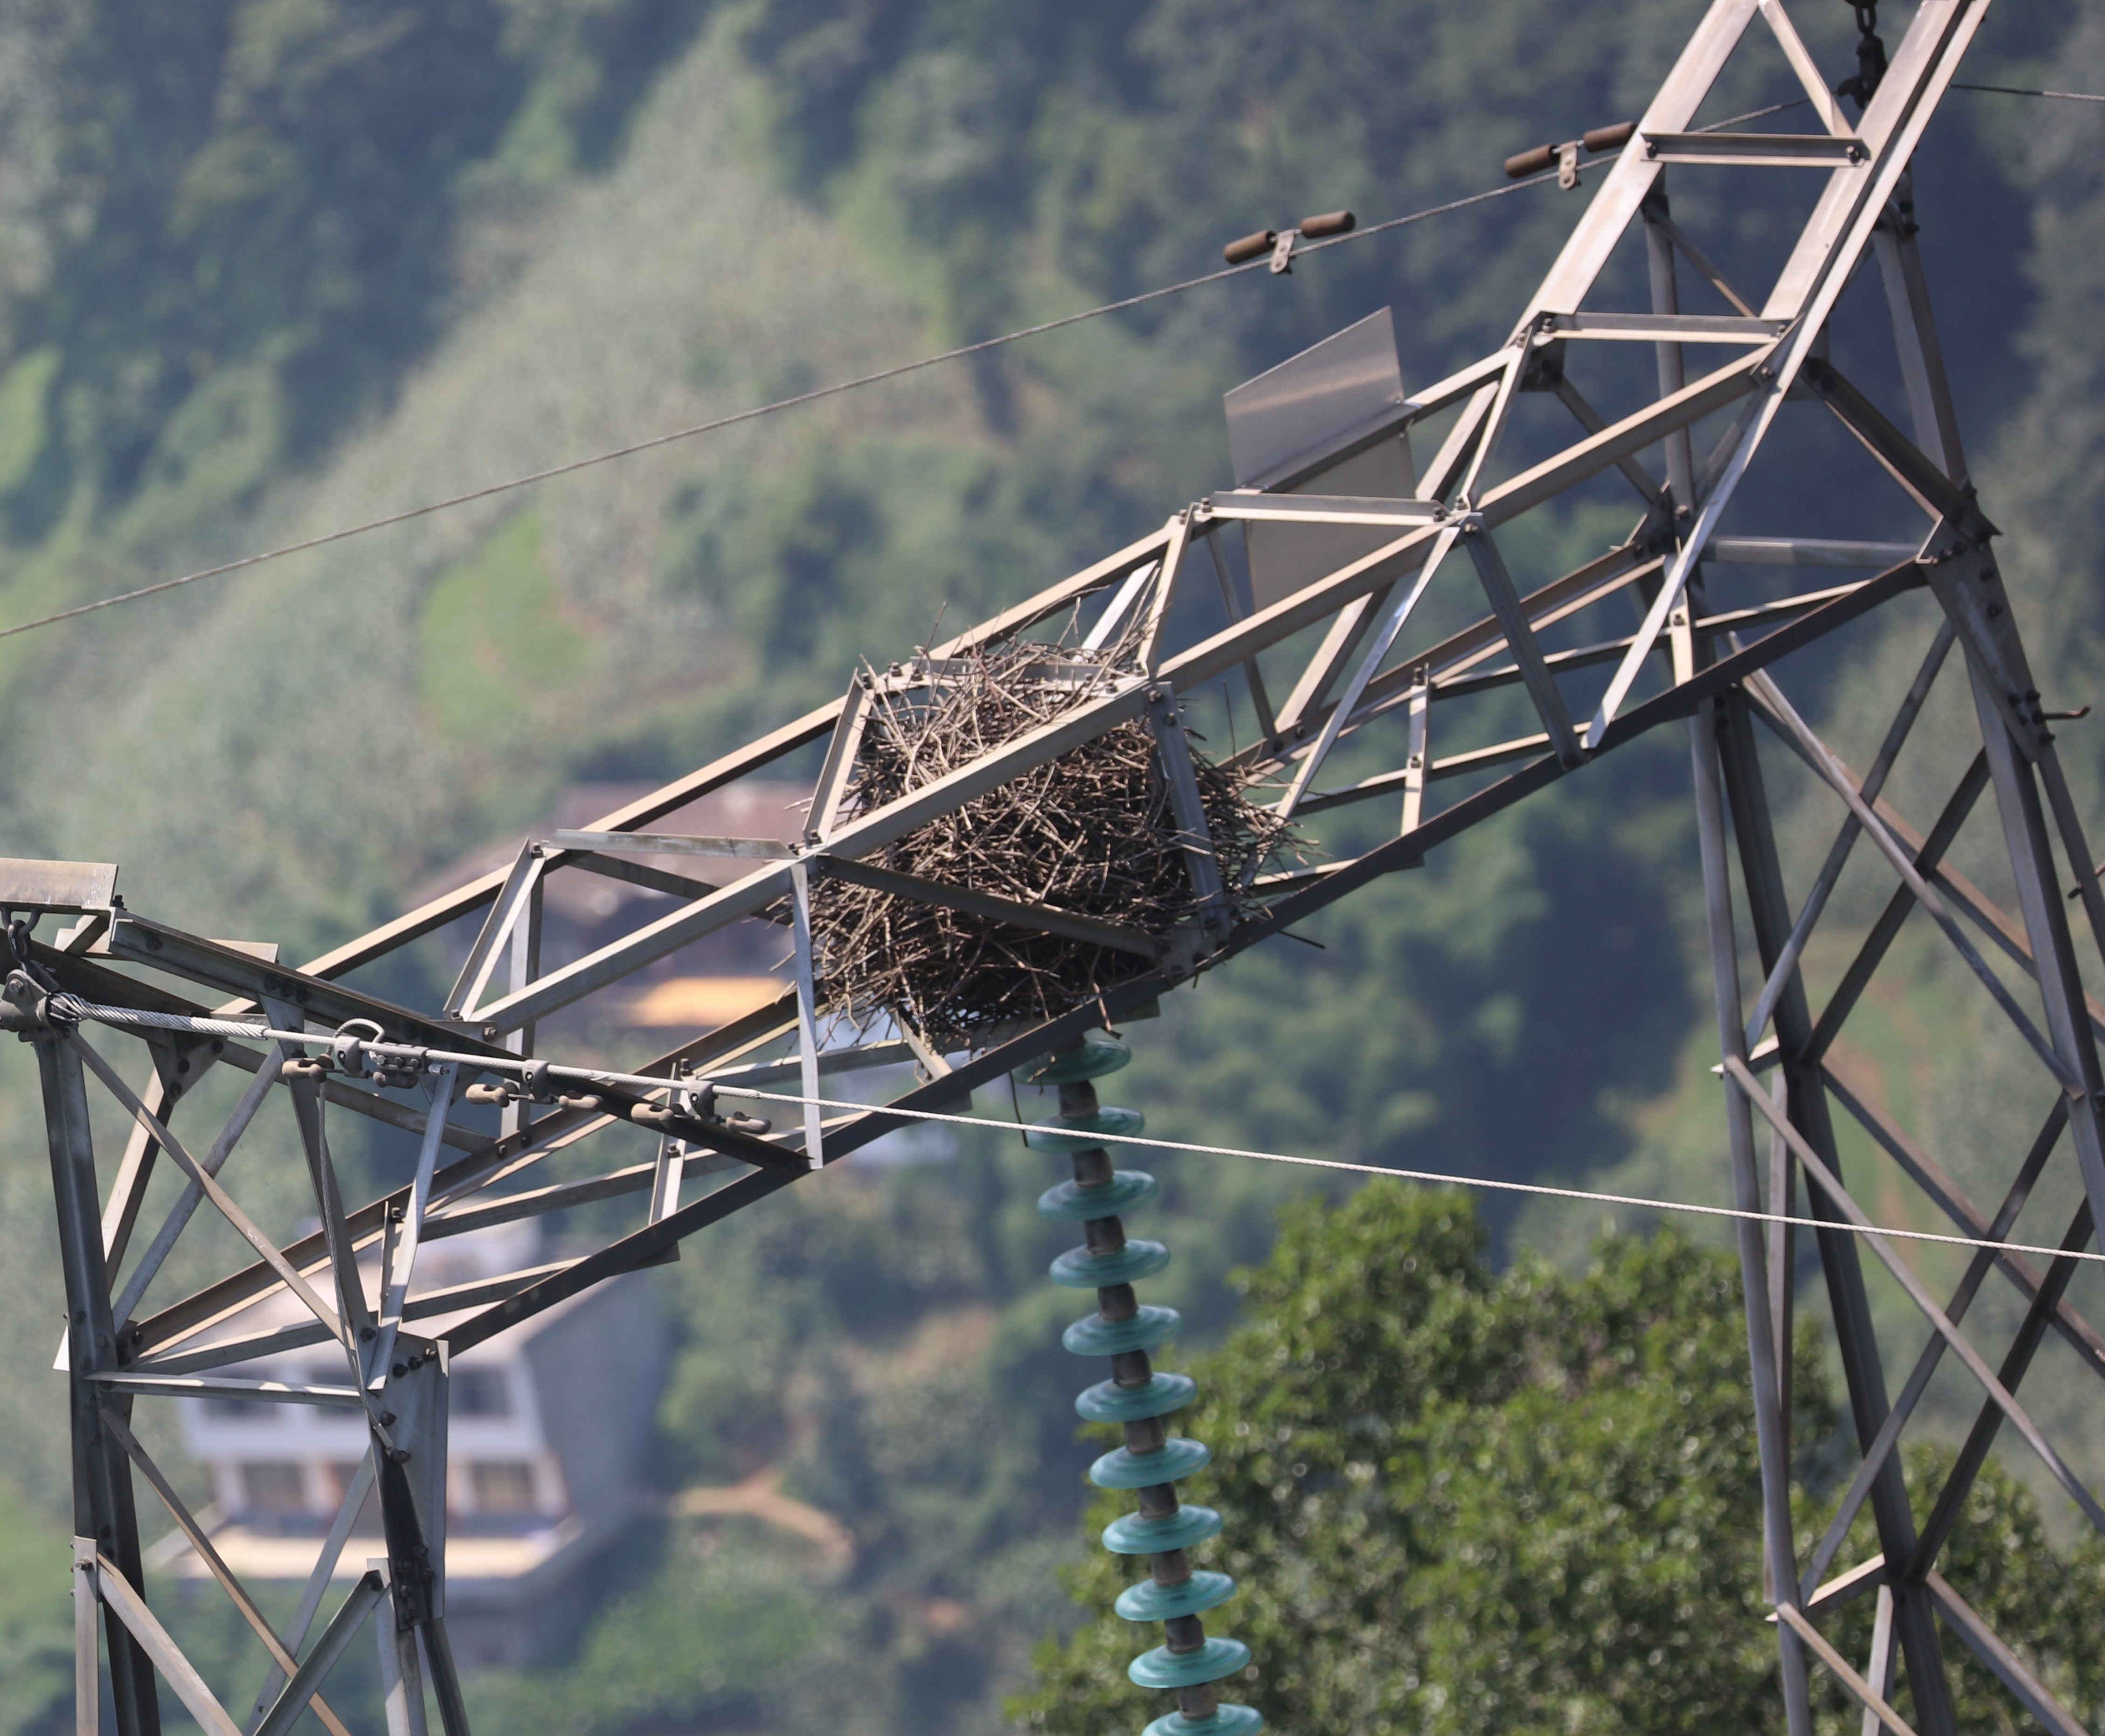niaowo: (782, 628, 1280, 1061)
